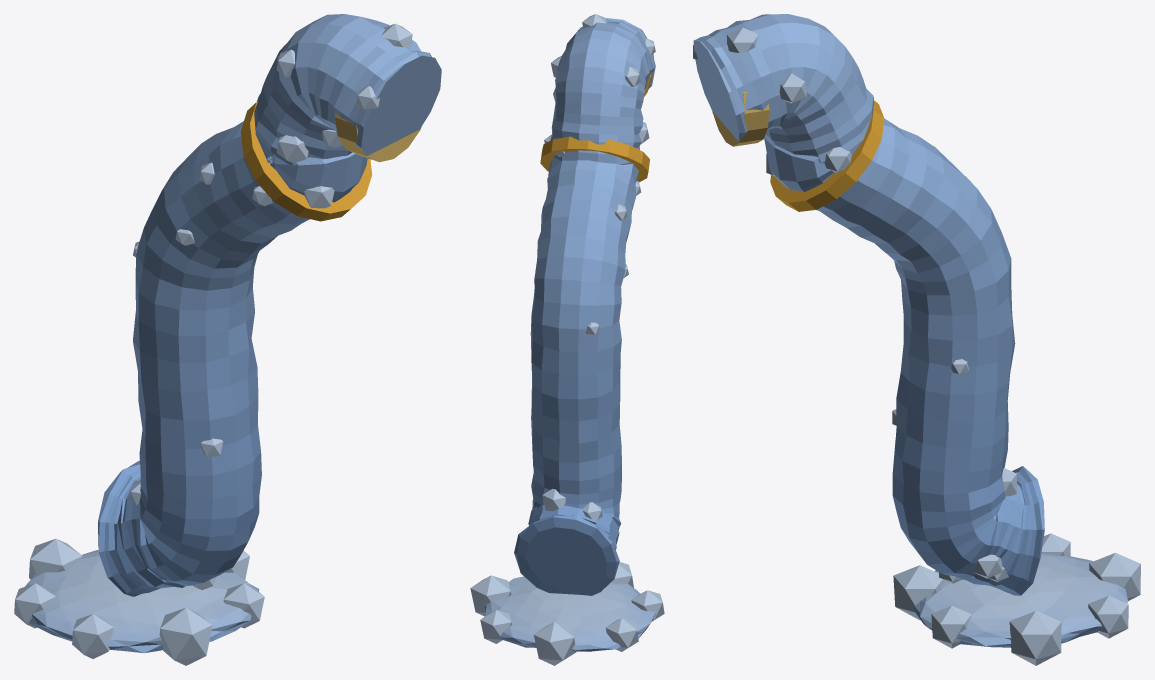
The model's file is goo_drop_tube_goo_2@fairground.fbx.
The picture shows the model from 3 angles, left to right: view 1: azimuth 30°, elevation 25°; view 2: azimuth 150°, elevation 25°; view 3: azimuth 270°, elevation 25°; orthographic projection. The views are drawn at different scales.
Parts seen in each view (by area): view 1: goo_drop_tube_goo_2; view 2: goo_drop_tube_goo_2; view 3: goo_drop_tube_goo_2.
Boxes of the visible parts, x1,y1,x2,y2 form: goo_drop_tube_goo_2: [14, 14, 441, 665]; goo_drop_tube_goo_2: [470, 14, 664, 665]; goo_drop_tube_goo_2: [693, 14, 1140, 665].
Size of the model in its own units: 8.66 by 21.79 by 13.69.
